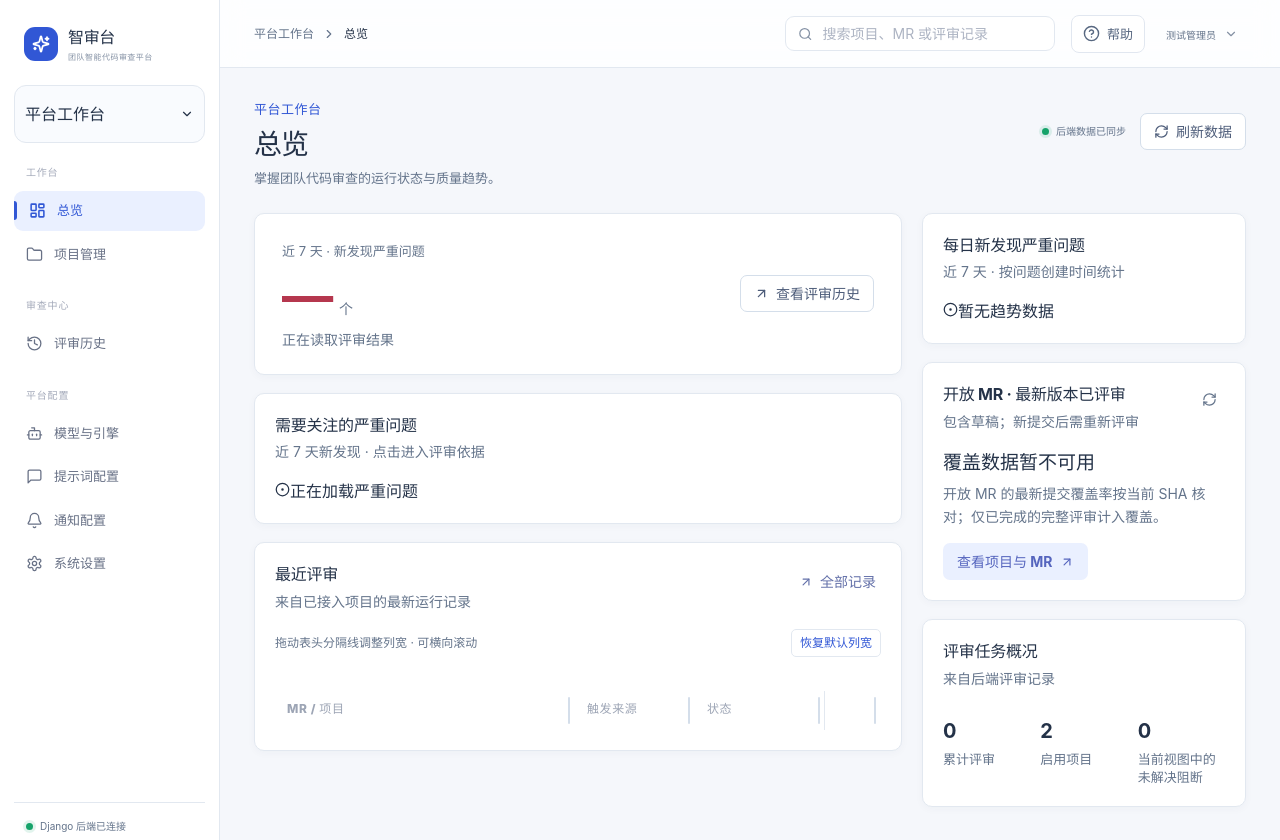
it: does not expose the previous project form while the new project configuration is loading
Check: the text "Django 后端已连接" is shown, box top-left (26, 820), bottom-right (126, 832)
Click the button "模型与引擎": coordinates (110, 433) top-left (14, 414), bottom-right (205, 453)
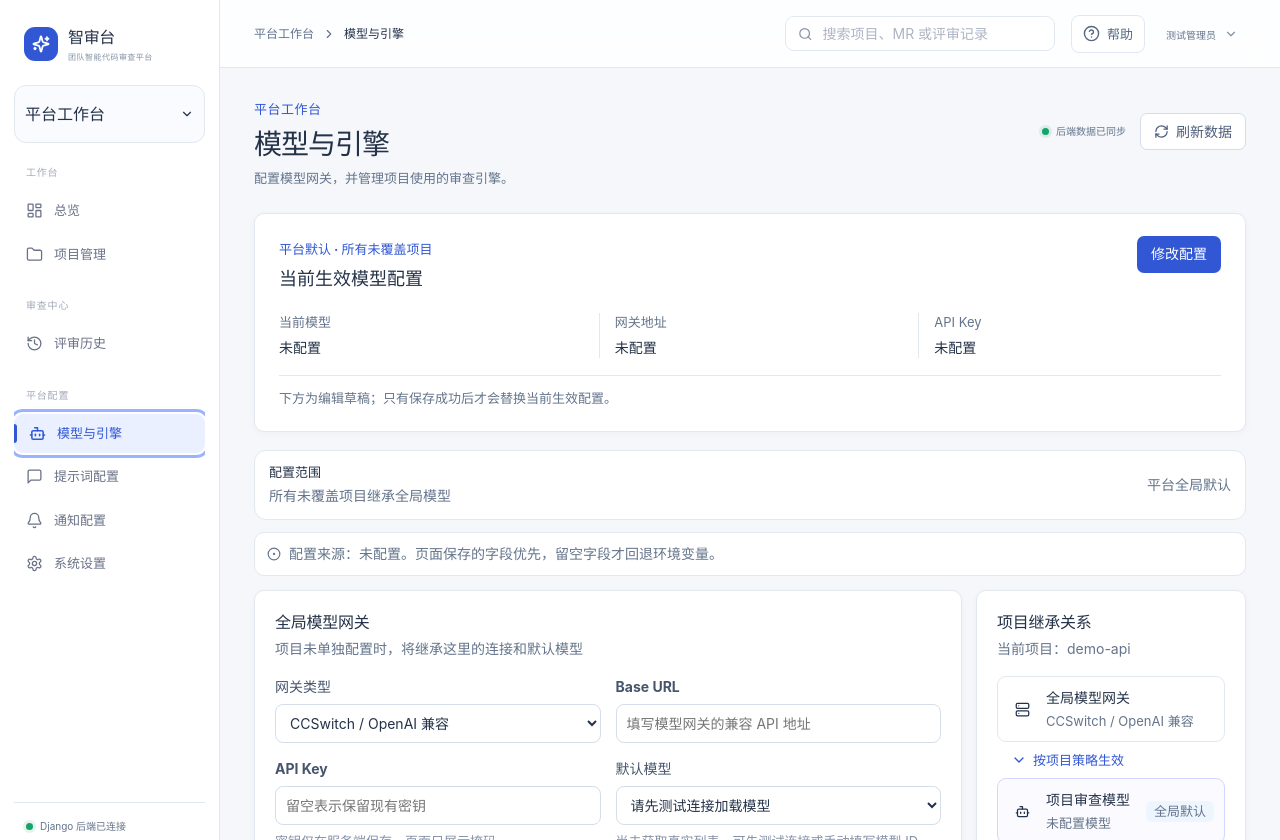
Click the button with aria-label "切换项目": coordinates (110, 114) top-left (14, 85), bottom-right (205, 143)
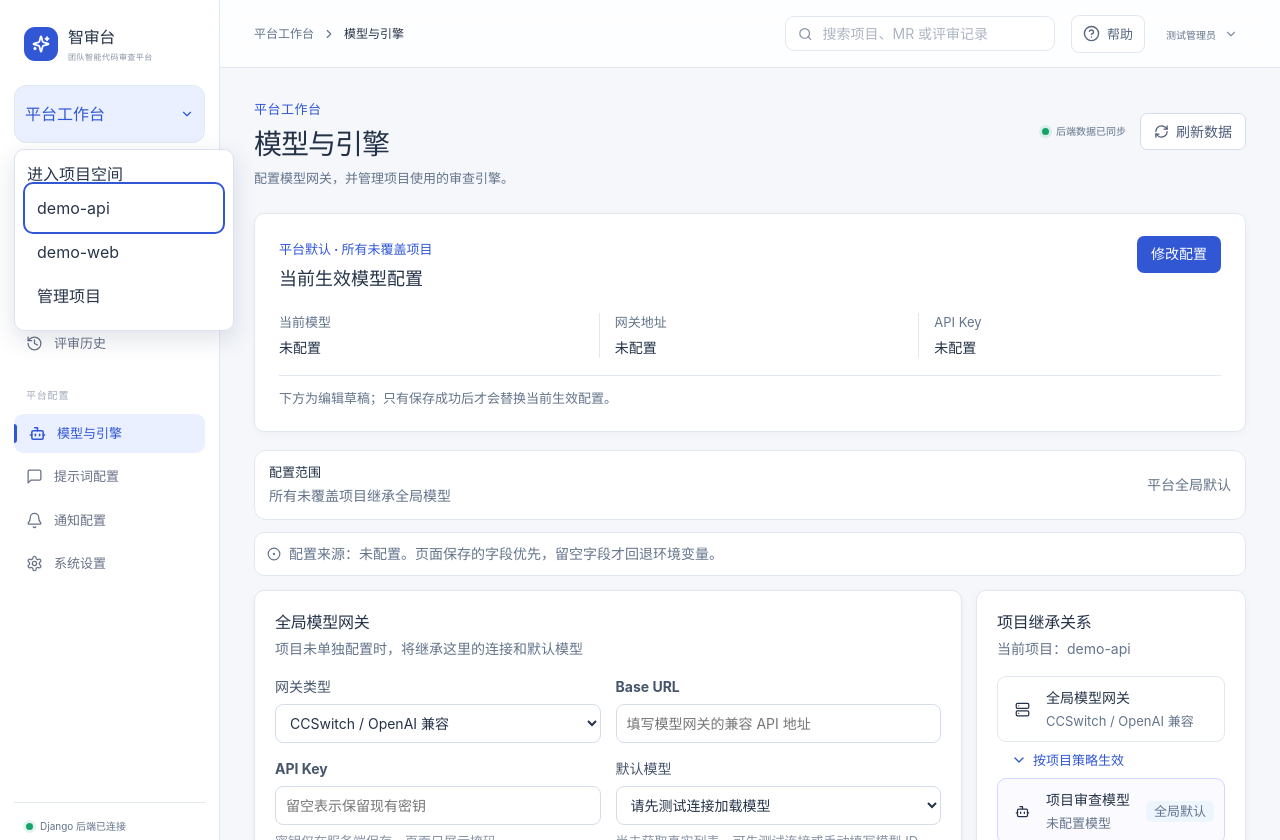
Click the button "demo-api": coordinates (124, 208) top-left (27, 186), bottom-right (221, 230)
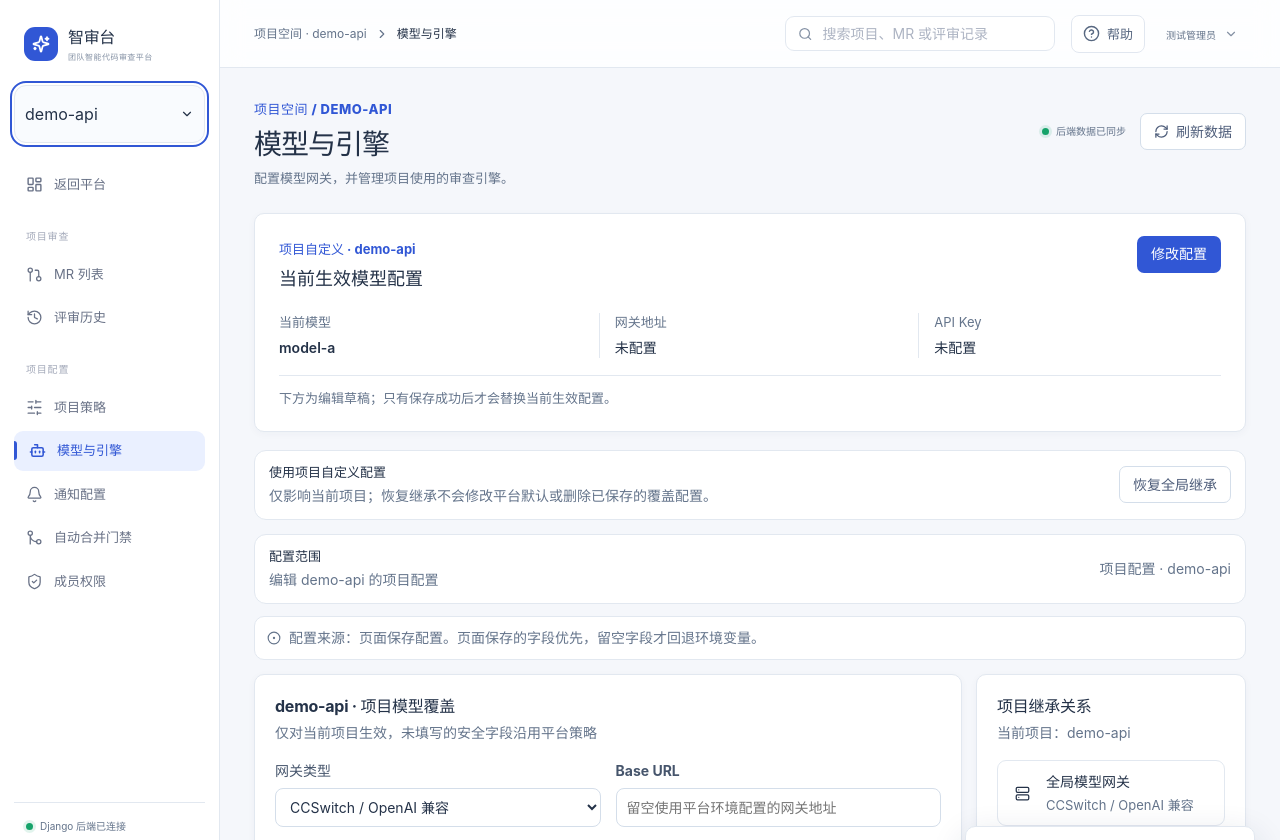
Click the button with aria-label "切换项目": coordinates (110, 114) top-left (14, 85), bottom-right (205, 143)
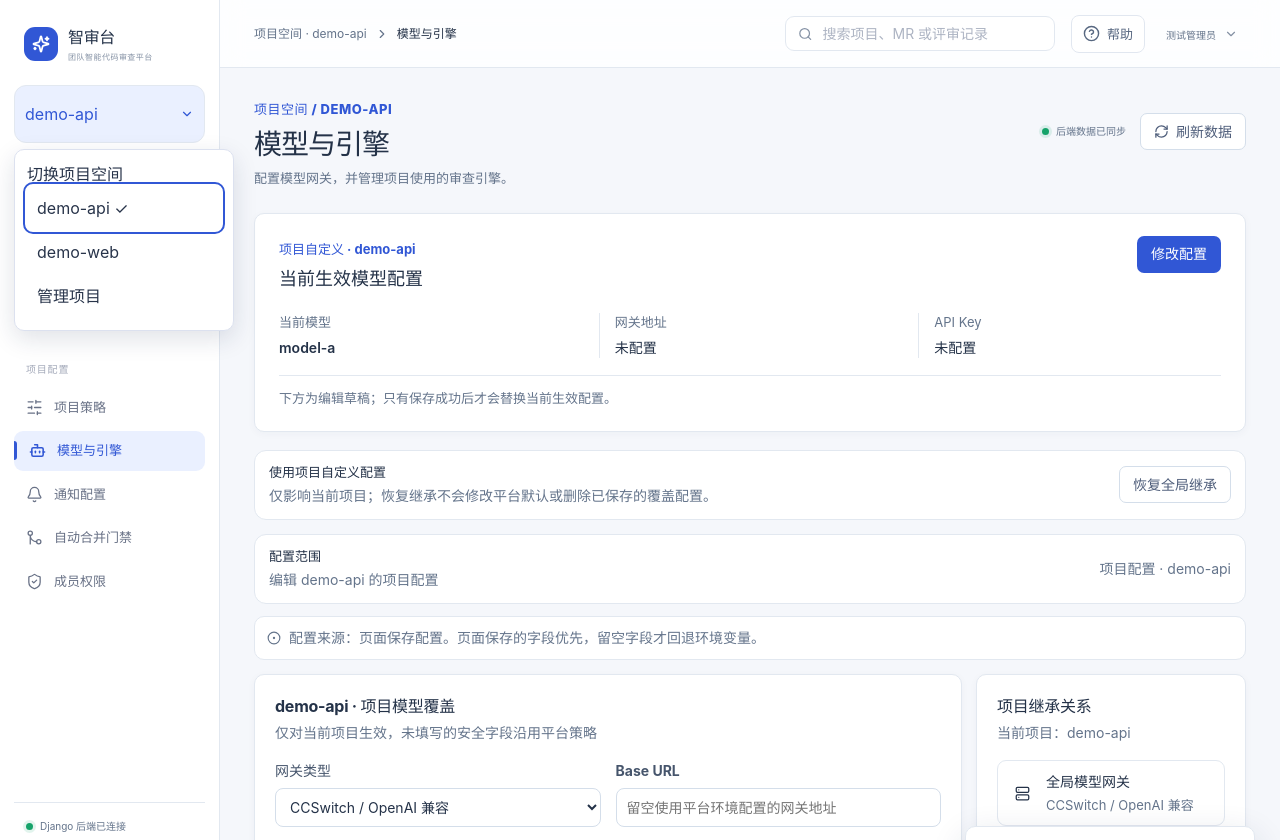
Click the button "demo-web": coordinates (124, 252) top-left (27, 230), bottom-right (221, 274)
(page scrolled)
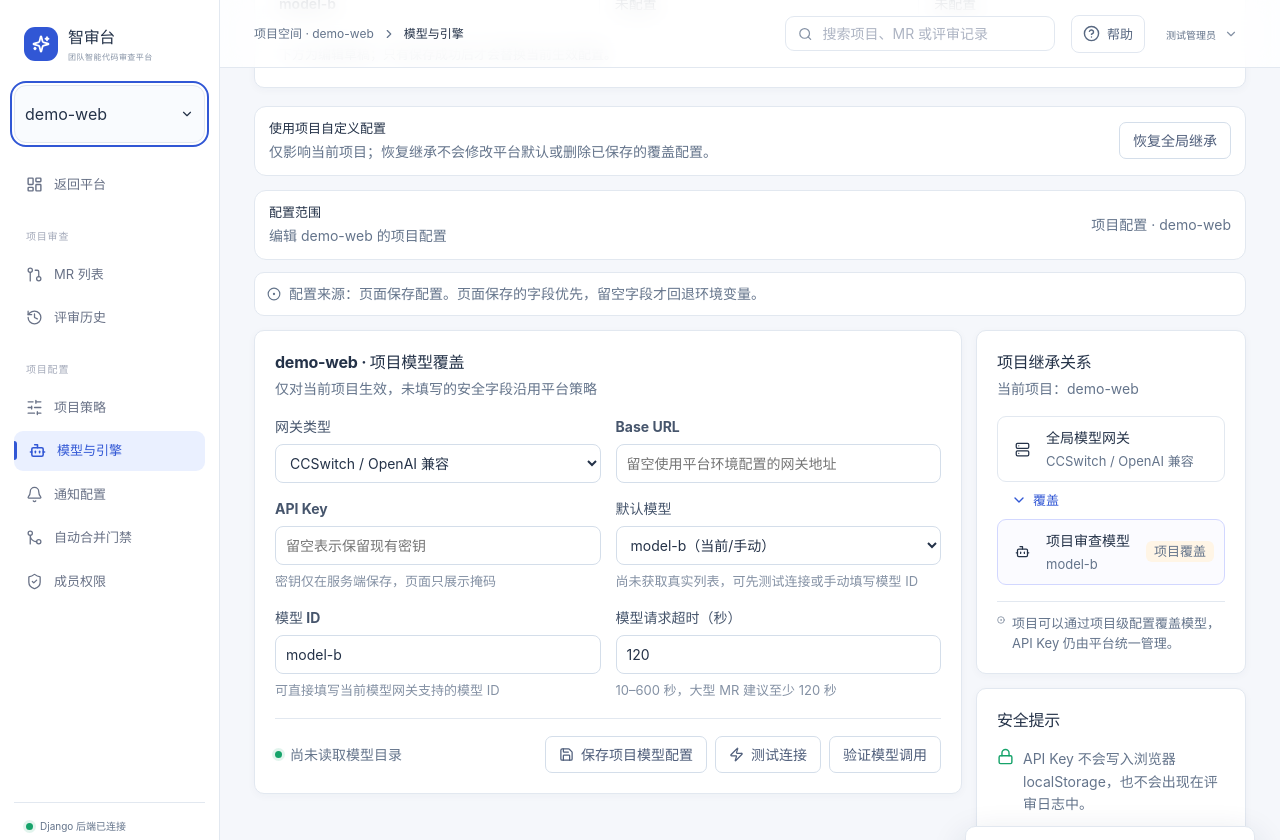
Check: the text showing "model-a" is gone
Check: the field labelled "模型 ID" holds "model-b", box top-left (275, 635), bottom-right (600, 674)
